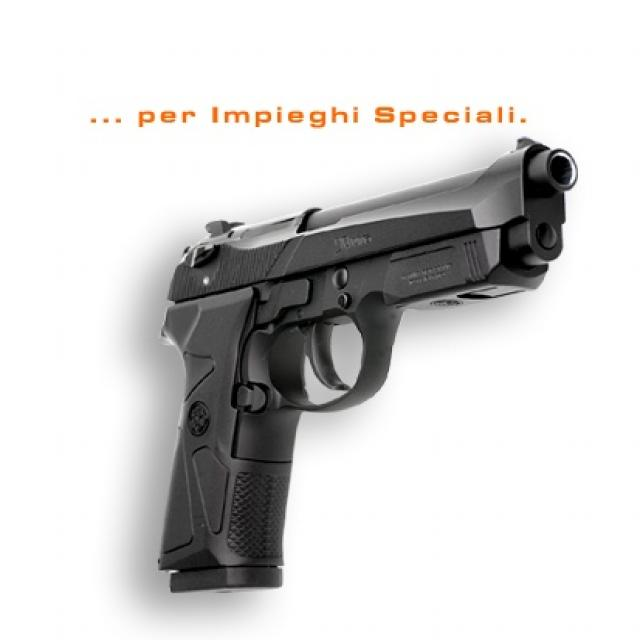gun: (150, 123, 580, 598)
